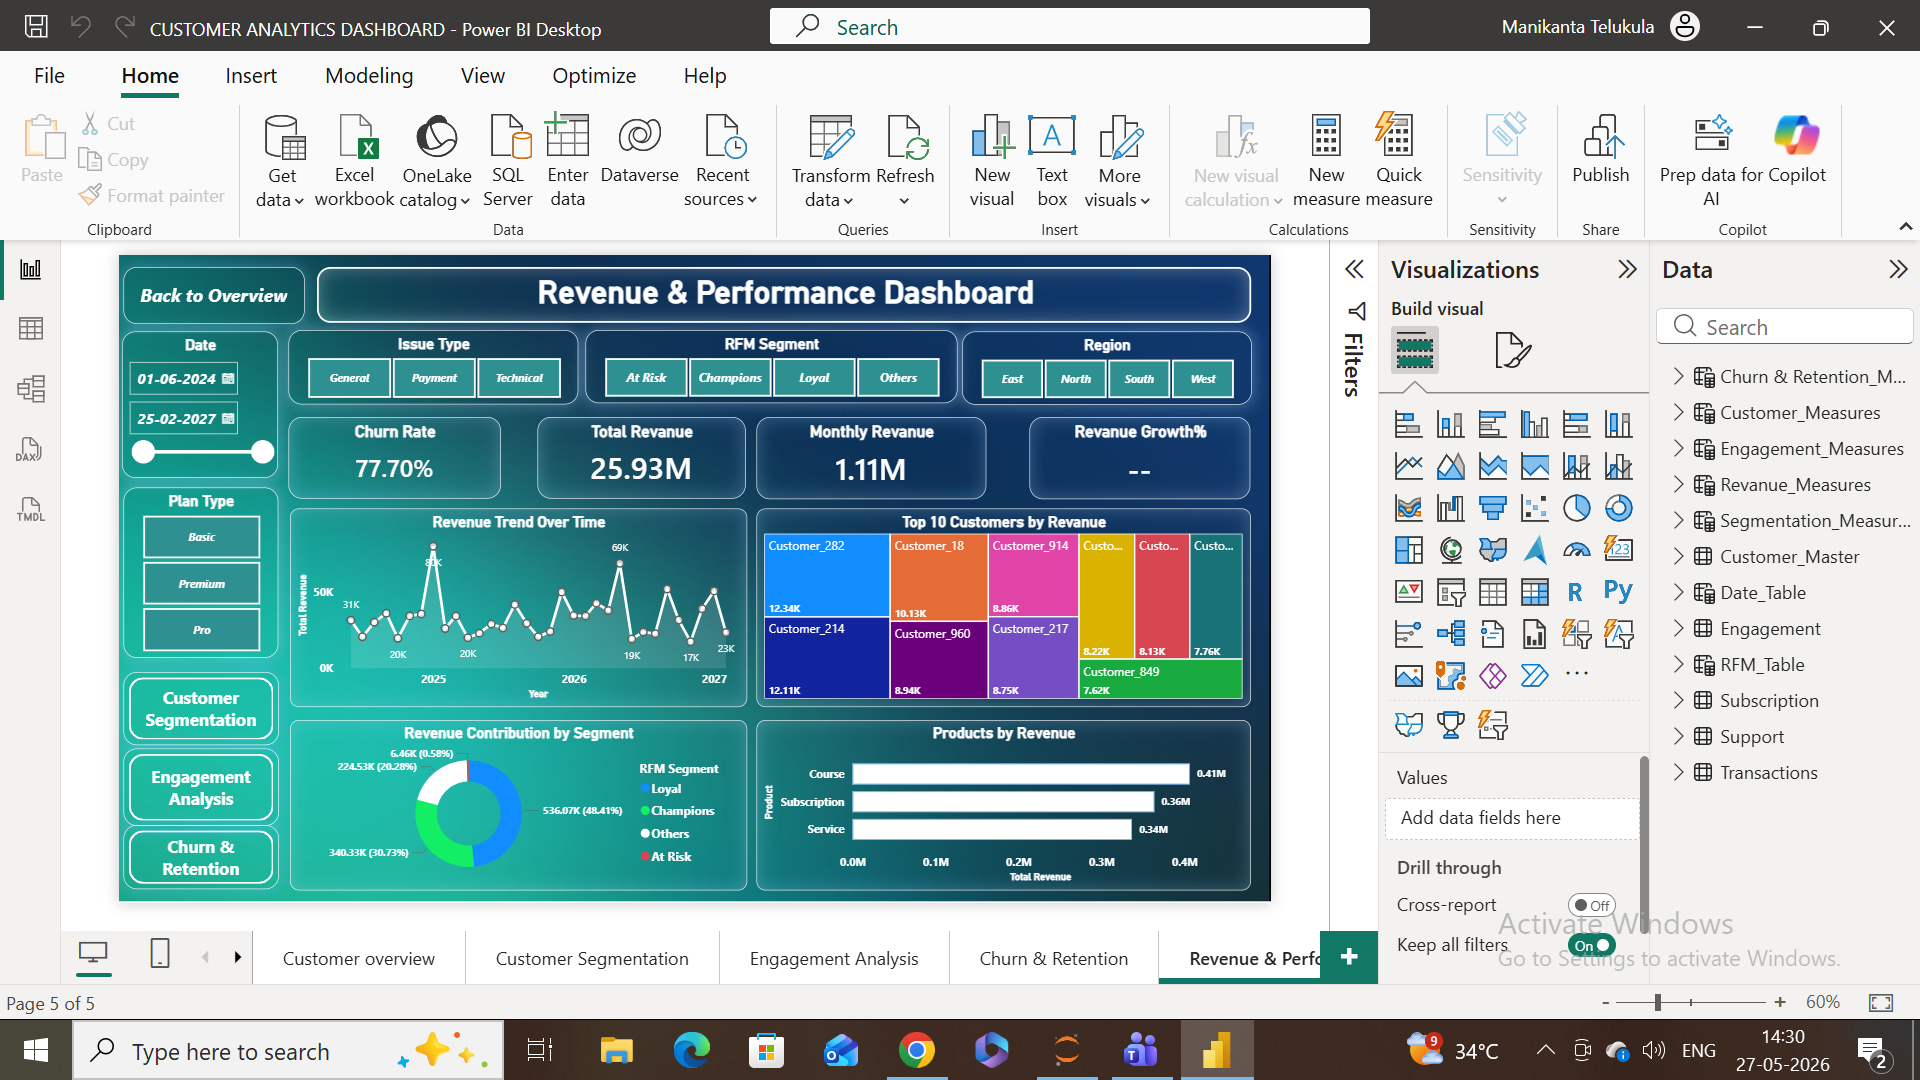

Layout of this report page (visuals, bound fields, positions):
{"tool":"powerbi","page":{"name":"Revenue & Performance","canvas":[1280,720],"ordinal":4},"visuals":[{"type":"actionButton","box":[4.8,12.7,201.6,63.5],"z":0},{"type":"textbox","title":"Revenue & Performance Dashboard","box":[220.6,12.7,1038.1,61.9],"z":1000},{"type":"cardVisual","title":"Total Revanue","fields":{"Data":["Revanue_Measures.Total Revenue"]},"box":[465.8,179.7,231.3,90.7],"z":2000},{"type":"cardVisual","title":"Monthly Revanue","fields":{"Data":["Revanue_Measures.Monthly Revenue"]},"box":[708.6,179.2,255.6,91.3],"z":3000},{"type":"cardVisual","title":"Revanue Growth%","fields":{"Data":["Revanue_Measures.Revenue Growth %"]},"box":[1012.3,179.2,245.6,91.3],"z":4000},{"type":"slicer","title":"Region","fields":{"Values":["Customer_Master.Region"]},"box":[936.2,84.4,322,81.3],"z":5000},{"type":"slicer","title":"RFM Segment","fields":{"Values":["RFM_Table.RFM Segment"]},"box":[517.8,83,413.2,81.3],"z":6000},{"type":"slicer","title":"Date","fields":{"Values":["Engagement.LastActivityDate"]},"box":[3.1,84.4,173.5,162.6],"z":7000},{"type":"slicer","title":"Plan Type","fields":{"Values":["Subscription.PlanType"]},"box":[4.7,257.9,171.9,189.1],"z":8000},{"type":"cardVisual","title":"Churn Rate","fields":{"Data":["Churn & Retention_Measures.Churn Rate"]},"box":[189.1,179.7,236,90.7],"z":9000},{"type":"lineChart","title":"Revenue Trend Over Time","fields":{"Category":["Engagement.LastActivityDate.Variation.Date Hierarchy.Year","Engagement.LastActivityDate.Variation.Date Hierarchy.Quarter","Engagement.LastActivityDate.Variation.Date Hierarchy.Month"],"Y":["Revanue_Measures.Total Revenue"]},"box":[189.2,282.1,507.8,220.7],"z":10000},{"type":"donutChart","title":"Revenue Contribution by Segment","fields":{"Y":["Revanue_Measures.Total Revenue"],"Category":["RFM_Table.RFM Segment"]},"box":[189.2,516.1,507.8,189.2],"z":11000},{"type":"barChart","title":"Products by Revenue","fields":{"Category":["Transactions.Product"],"Y":["Revanue_Measures.Total Revenue"]},"box":[708.6,516.1,549.3,189.2],"z":12000},{"type":"slicer","title":"Issue Type","fields":{"Values":["Support.IssueType"]},"box":[188.9,84.1,322.2,82.5],"z":13000},{"type":"treemap","title":"Top 10 Customers by Revanue","fields":{"Group":["Customer_Master.Name"],"Values":["Revanue_Measures.Total Revenue"]},"box":[708.6,282.1,549.3,220.7],"z":14000},{"type":"actionButton","box":[5,633.9,172.6,71.4],"z":15000},{"type":"actionButton","box":[5,547.6,172.6,86.3],"z":16000},{"type":"actionButton","box":[5,463,172.6,81.3],"z":17000}]}

Visuals, with their boxes on the page's 1280x720 design canvas (x1, y1, x2, y2). These are canvas units, not pixel positions in the 1920x1080 screenshot, which may show the page scaled, cropped or inside an application window:
actionButton: BBox(5, 13, 206, 76)
"Revenue & Performance Dashboard" textbox: BBox(221, 13, 1259, 75)
"Total Revanue" cardVisual: BBox(466, 180, 697, 270)
"Monthly Revanue" cardVisual: BBox(709, 179, 964, 270)
"Revanue Growth%" cardVisual: BBox(1012, 179, 1258, 270)
"Region" slicer: BBox(936, 84, 1258, 166)
"RFM Segment" slicer: BBox(518, 83, 931, 164)
"Date" slicer: BBox(3, 84, 177, 247)
"Plan Type" slicer: BBox(5, 258, 177, 447)
"Churn Rate" cardVisual: BBox(189, 180, 425, 270)
"Revenue Trend Over Time" lineChart: BBox(189, 282, 697, 503)
"Revenue Contribution by Segment" donutChart: BBox(189, 516, 697, 705)
"Products by Revenue" barChart: BBox(709, 516, 1258, 705)
"Issue Type" slicer: BBox(189, 84, 511, 167)
"Top 10 Customers by Revanue" treemap: BBox(709, 282, 1258, 503)
actionButton: BBox(5, 634, 178, 705)
actionButton: BBox(5, 548, 178, 634)
actionButton: BBox(5, 463, 178, 544)
